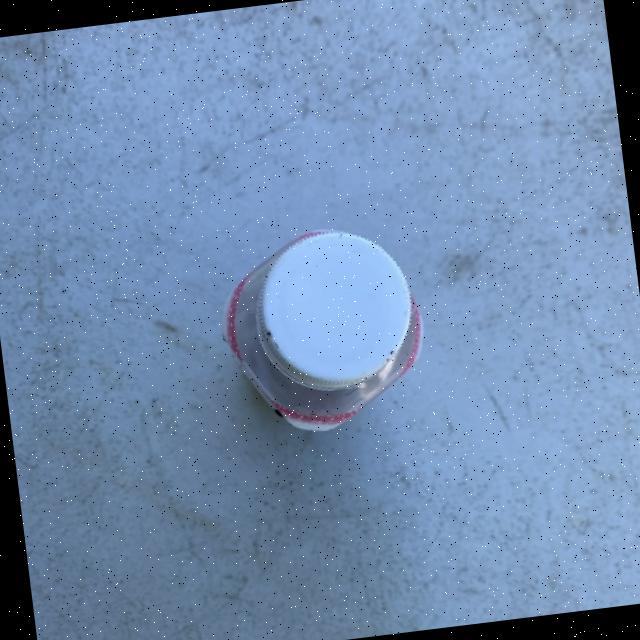plastic: (210, 217, 432, 441)
